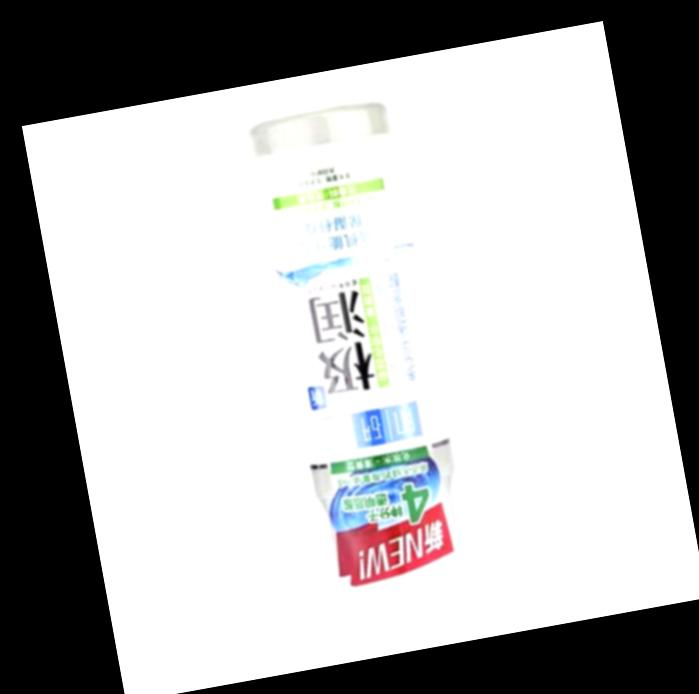cosmetic: (253, 106, 477, 614)
